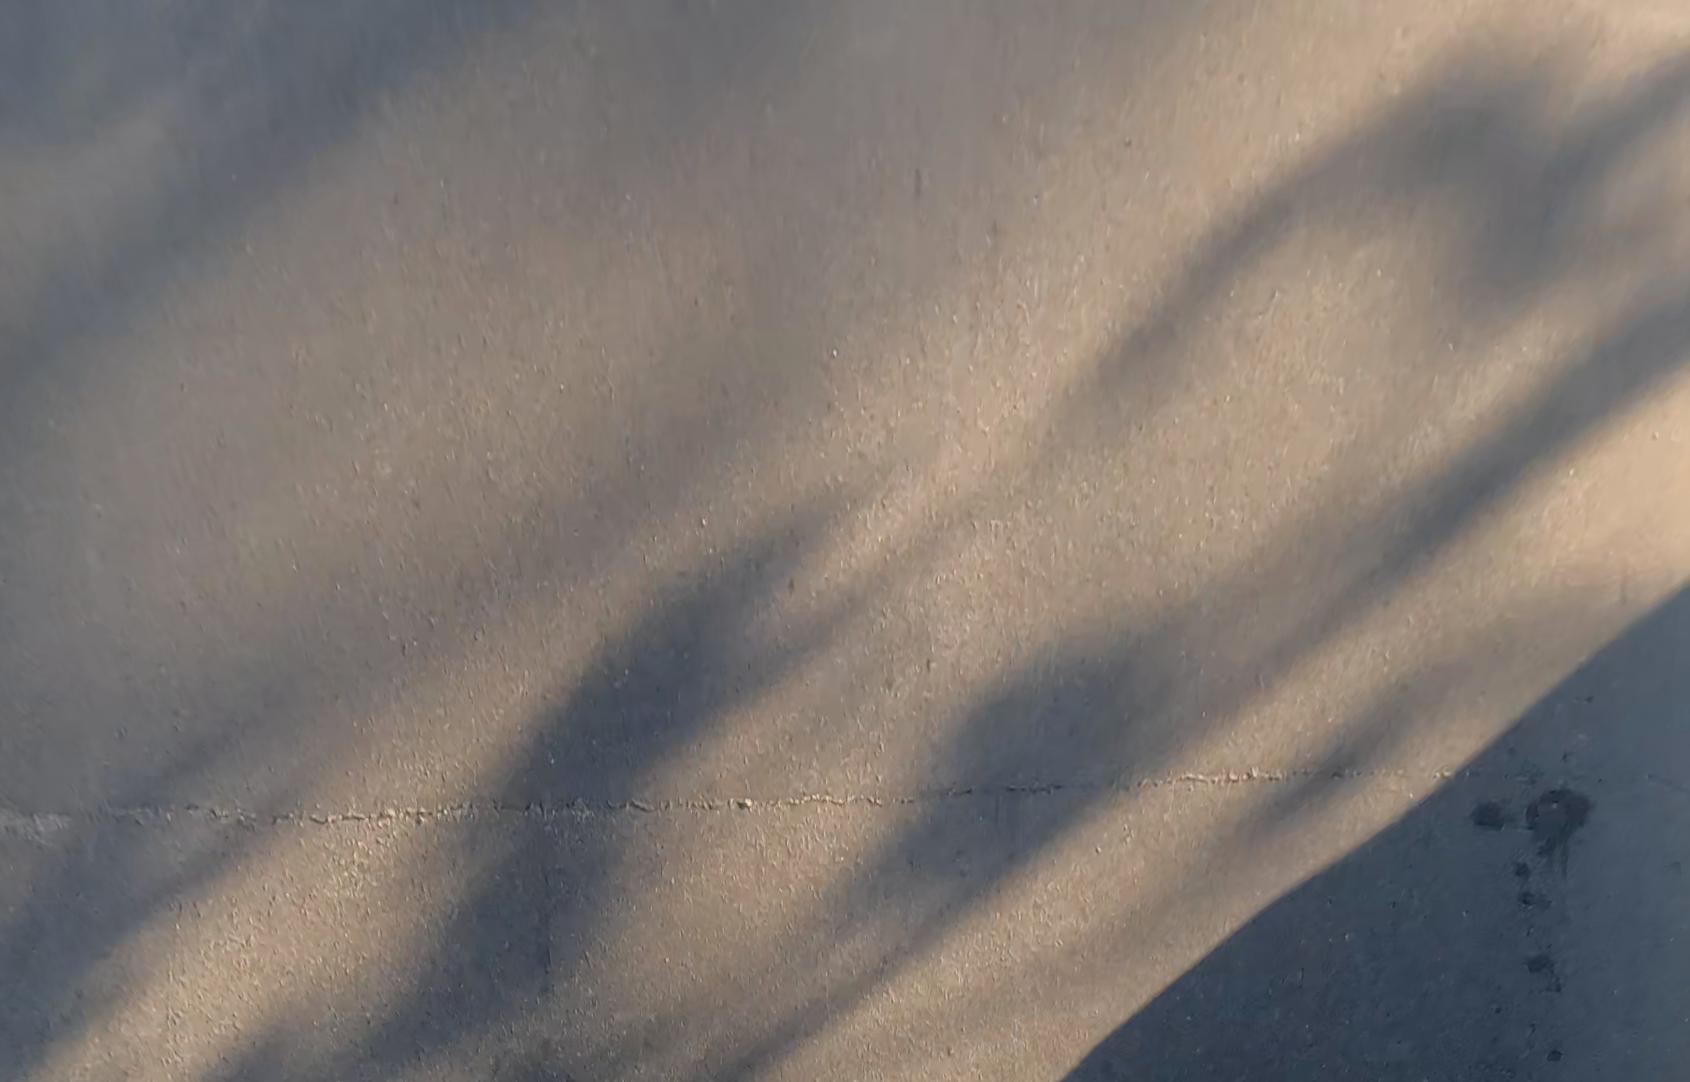pothole_patch_good: (1529, 789, 1596, 856)
